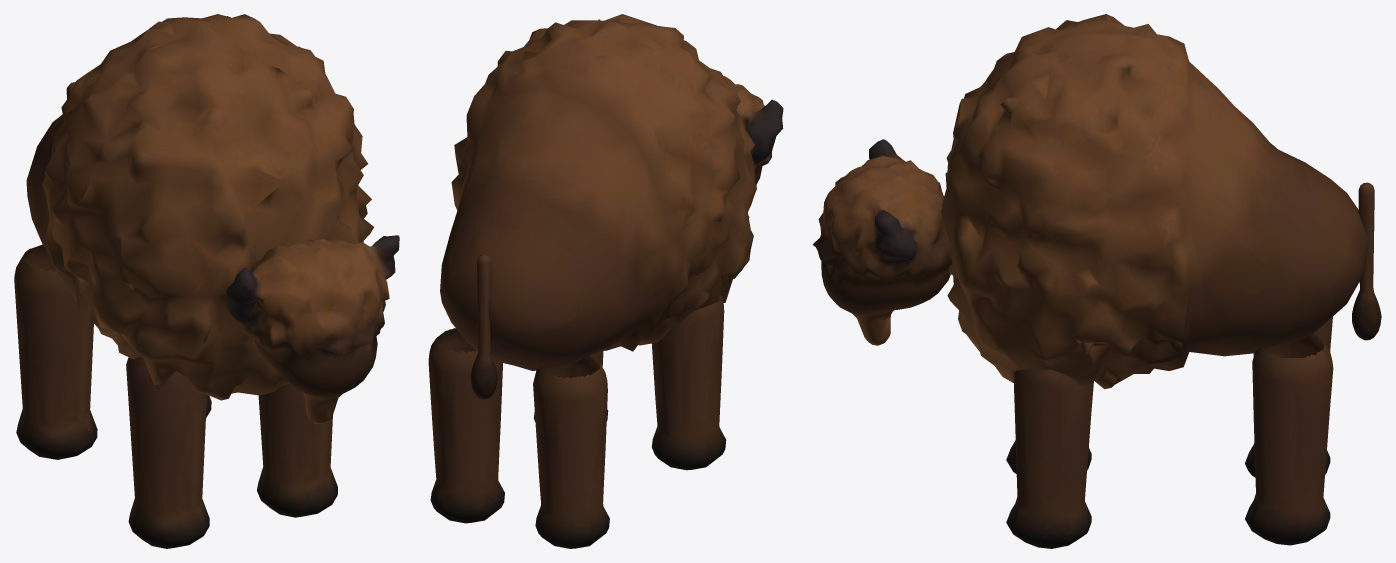
Rendered from animal_bison.glb.
The picture shows the model from 3 angles, left to right: view 1: azimuth 30°, elevation 25°; view 2: azimuth 150°, elevation 25°; view 3: azimuth 270°, elevation 25°; orthographic projection. The views are drawn at different scales.
Parts seen in each view (by area): view 1: animal_bison, head, leg2, leg0, leg1; view 2: animal_bison, leg2, leg3, leg0, head, tail; view 3: animal_bison, head, leg3, leg1, tail.
Part boxes in pixels (box(x1,y1,x2,y2)): animal_bison: box(26, 14, 373, 400); head: box(225, 235, 399, 423); leg2: box(14, 244, 97, 459); leg0: box(126, 357, 209, 548); leg1: box(257, 383, 337, 517); animal_bison: box(440, 14, 756, 370); leg2: box(533, 356, 609, 548); leg3: box(428, 328, 504, 523); leg0: box(651, 295, 726, 470); head: box(723, 76, 783, 184); tail: box(470, 254, 497, 399); animal_bison: box(941, 14, 1368, 389); head: box(812, 139, 952, 345); leg3: box(1245, 333, 1333, 545); leg1: box(1006, 369, 1093, 548); tail: box(1352, 182, 1381, 340).
Bounding box in the file's own units: 0.3934 × 0.6421 × 0.6919.
1 material, 1 textured.
